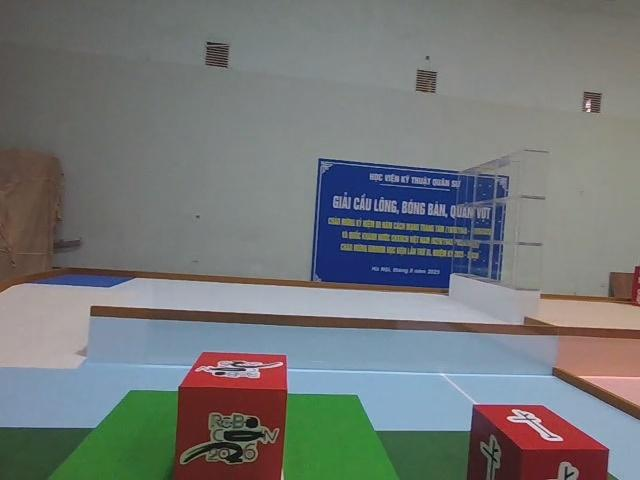R1: (177, 351, 286, 480)
R2 Real: (468, 403, 610, 480)
